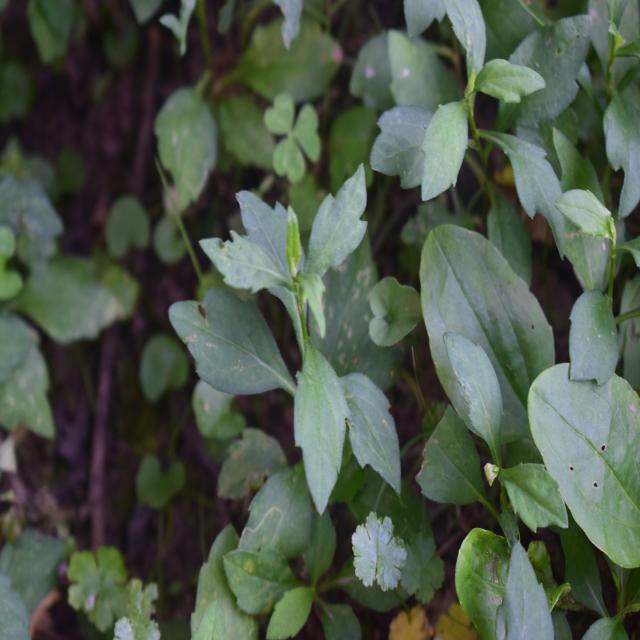Indian aster: (192, 169, 417, 524)
